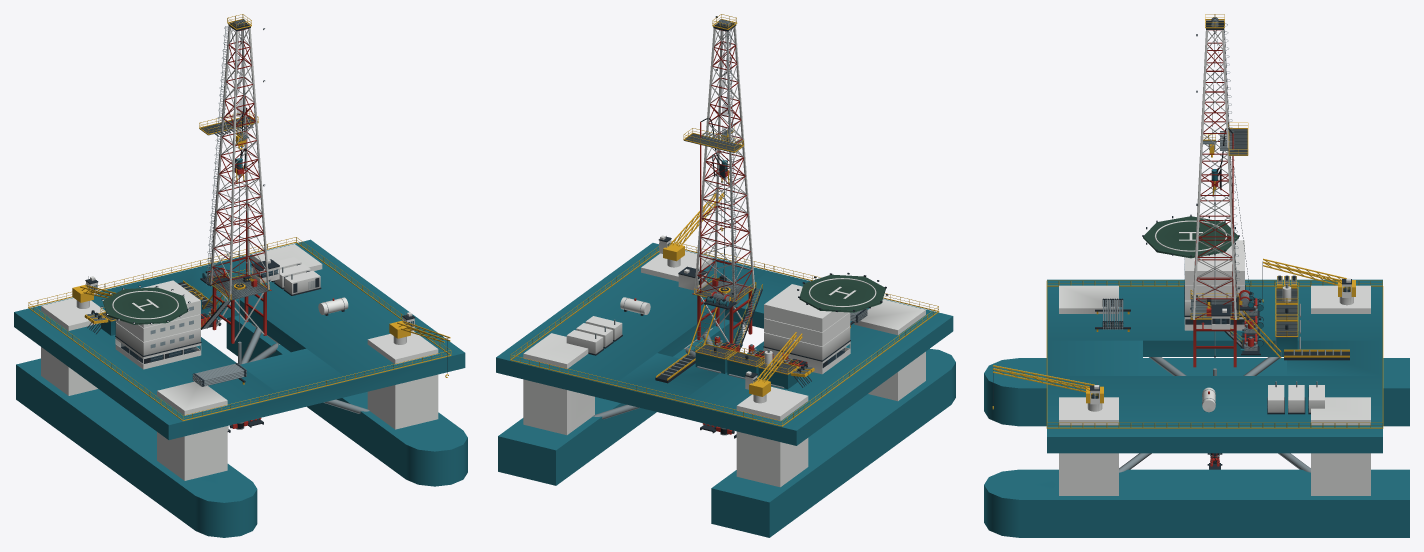
File: semi_submersible_lodH.glb
The picture shows the model from 3 angles, left to right: view 1: azimuth 30°, elevation 25°; view 2: azimuth 150°, elevation 25°; view 3: azimuth 270°, elevation 25°; orthographic projection. The views are drawn at different scales.
Parts seen in each view (by area): view 1: main_deck_surface_blue, pontoons_surface_blue, columns_surface_white, derrick_surface_white, accommodation_surface_white, deck_handrails_surface_yellow, derrick_surface_red, helideck_surface_green, generators_surface_white, ladder_surface_steel, substructure_surface_red, columns_surface_steel (+5 smaller); view 2: main_deck_surface_blue, pontoons_surface_blue, columns_surface_white, accommodation_surface_white, derrick_surface_white, deck_handrails_surface_yellow, helideck_surface_green, derrick_surface_red, generators_surface_white, mud_tanks_surface_blue, ladder_surface_steel, mud_tanks_surface_yellow (+5 smaller); view 3: main_deck_surface_blue, pontoons_surface_blue, columns_surface_white, derrick_surface_white, deck_handrails_surface_yellow, accommodation_surface_white, helideck_surface_green, derrick_surface_red, generators_surface_white, columns_surface_steel, deck_crane_1_surface_yellow, mud_tanks_surface_steel (+7 smaller).
Part boxes in pixels (bbox=[...]): main_deck_surface_blue: bbox=[14, 239, 465, 439]; pontoons_surface_blue: bbox=[16, 315, 467, 537]; columns_surface_white: bbox=[41, 244, 438, 480]; derrick_surface_white: bbox=[210, 26, 269, 299]; accommodation_surface_white: bbox=[115, 280, 201, 369]; deck_handrails_surface_yellow: bbox=[28, 237, 451, 421]; derrick_surface_red: bbox=[211, 28, 267, 296]; helideck_surface_green: bbox=[103, 287, 188, 324]; generators_surface_white: bbox=[273, 257, 320, 294]; ladder_surface_steel: bbox=[206, 26, 228, 284]; substructure_surface_red: bbox=[212, 287, 266, 343]; columns_surface_steel: bbox=[241, 327, 369, 413]; main_deck_surface_blue: bbox=[496, 243, 953, 445]; pontoons_surface_blue: bbox=[498, 319, 955, 537]; columns_surface_white: bbox=[523, 251, 925, 487]; accommodation_surface_white: bbox=[763, 284, 850, 374]; derrick_surface_white: bbox=[694, 26, 754, 301]; deck_handrails_surface_yellow: bbox=[510, 241, 939, 426]; helideck_surface_green: bbox=[799, 274, 885, 312]; derrick_surface_red: bbox=[696, 28, 753, 301]; generators_surface_white: bbox=[566, 316, 622, 354]; mud_tanks_surface_blue: bbox=[695, 353, 797, 389]; ladder_surface_steel: bbox=[725, 32, 737, 303]; mud_tanks_surface_yellow: bbox=[695, 339, 798, 374]; main_deck_surface_blue: bbox=[1047, 279, 1382, 453]; pontoons_surface_blue: bbox=[984, 358, 1409, 537]; columns_surface_white: bbox=[1059, 285, 1370, 495]; derrick_surface_white: bbox=[1193, 30, 1236, 319]; deck_handrails_surface_yellow: bbox=[1046, 280, 1383, 428]; accommodation_surface_white: bbox=[1184, 240, 1245, 330]; helideck_surface_green: bbox=[1143, 216, 1238, 258]; derrick_surface_red: bbox=[1195, 30, 1236, 318]; generators_surface_white: bbox=[1268, 385, 1324, 412]; columns_surface_steel: bbox=[1119, 357, 1310, 472]; deck_crane_1_surface_yellow: bbox=[992, 365, 1103, 409]; mud_tanks_surface_steel: bbox=[1275, 288, 1300, 349].
Size of the model in its own units: 62 by 82.58 by 71.
